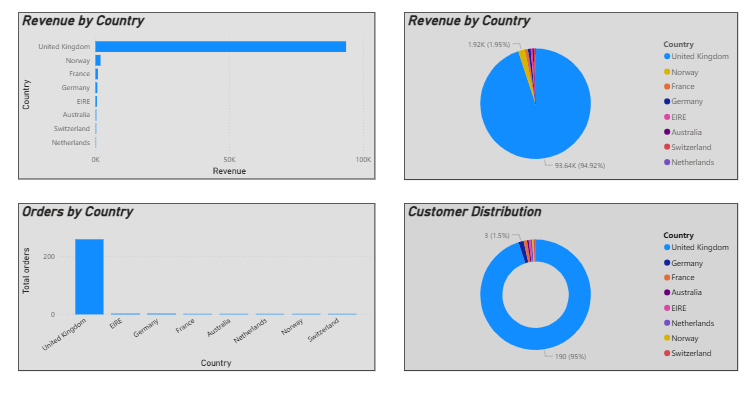

The dashboard page shown, as its layout file describes it:
{"tool":"powerbi","page":{"name":"Country Analysis","canvas":[1280,720],"ordinal":2},"visuals":[{"type":"barChart","fields":{"Category":["ecommerce_analysis online_retail_sales.Country"],"Y":["ecommerce_analysis online_retail_sales.Revenue"]},"box":[40.3,38.6,599.7,280.5],"z":0},{"type":"columnChart","title":"Orders by Country","fields":{"Category":["ecommerce_analysis online_retail_sales.Country"],"Y":["ecommerce_analysis online_retail_sales.Total orders"]},"box":[40.3,359.5,599.7,282.2],"z":1},{"type":"pieChart","fields":{"Category":["ecommerce_analysis online_retail_sales.Country"],"Y":["ecommerce_analysis online_retail_sales.Revenue"]},"box":[688.7,38.6,561,282.2],"z":2},{"type":"donutChart","title":"Customer Distribution","fields":{"Category":["ecommerce_analysis online_retail_sales.Country"],"Y":["ecommerce_analysis online_retail_sales.Total customers"]},"box":[688.7,359.5,561,282.2],"z":3}]}

Visuals, with their boxes on the page's 1280x720 design canvas (x1, y1, x2, y2). These are canvas units, not pixel positions in the 751x397 screenshot, which may show the page scaled, cropped or inside an application window:
barChart - ecommerce_analysis online_retail_sales.Country x ecommerce_analysis online_retail_sales.Revenue: bbox=[40, 39, 640, 319]
"Orders by Country" columnChart: bbox=[40, 360, 640, 642]
pieChart - ecommerce_analysis online_retail_sales.Country x ecommerce_analysis online_retail_sales.Revenue: bbox=[689, 39, 1250, 321]
"Customer Distribution" donutChart: bbox=[689, 360, 1250, 642]
